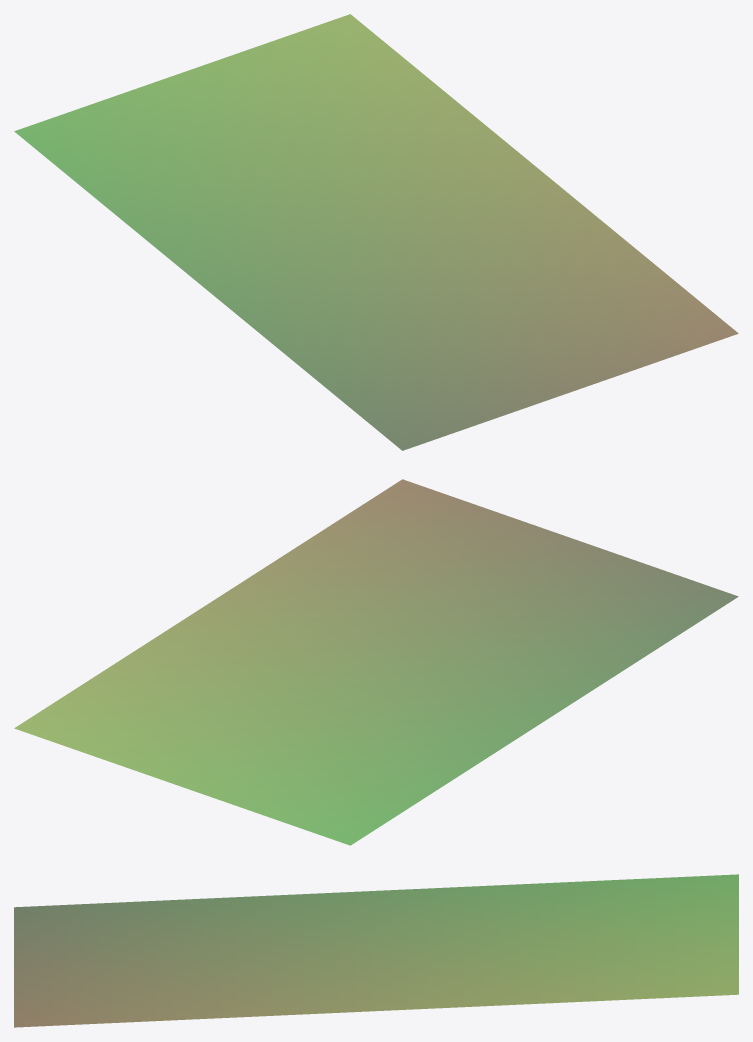
File: west.gltf
3 renders of one model, top to bottom at view 1: azimuth 30°, elevation 25°; view 2: azimuth 150°, elevation 25°; view 3: azimuth 270°, elevation 25°, orthographic. The views are drawn at different scales.
Bounding box in the file's own units: 100 × 20 × 200.
